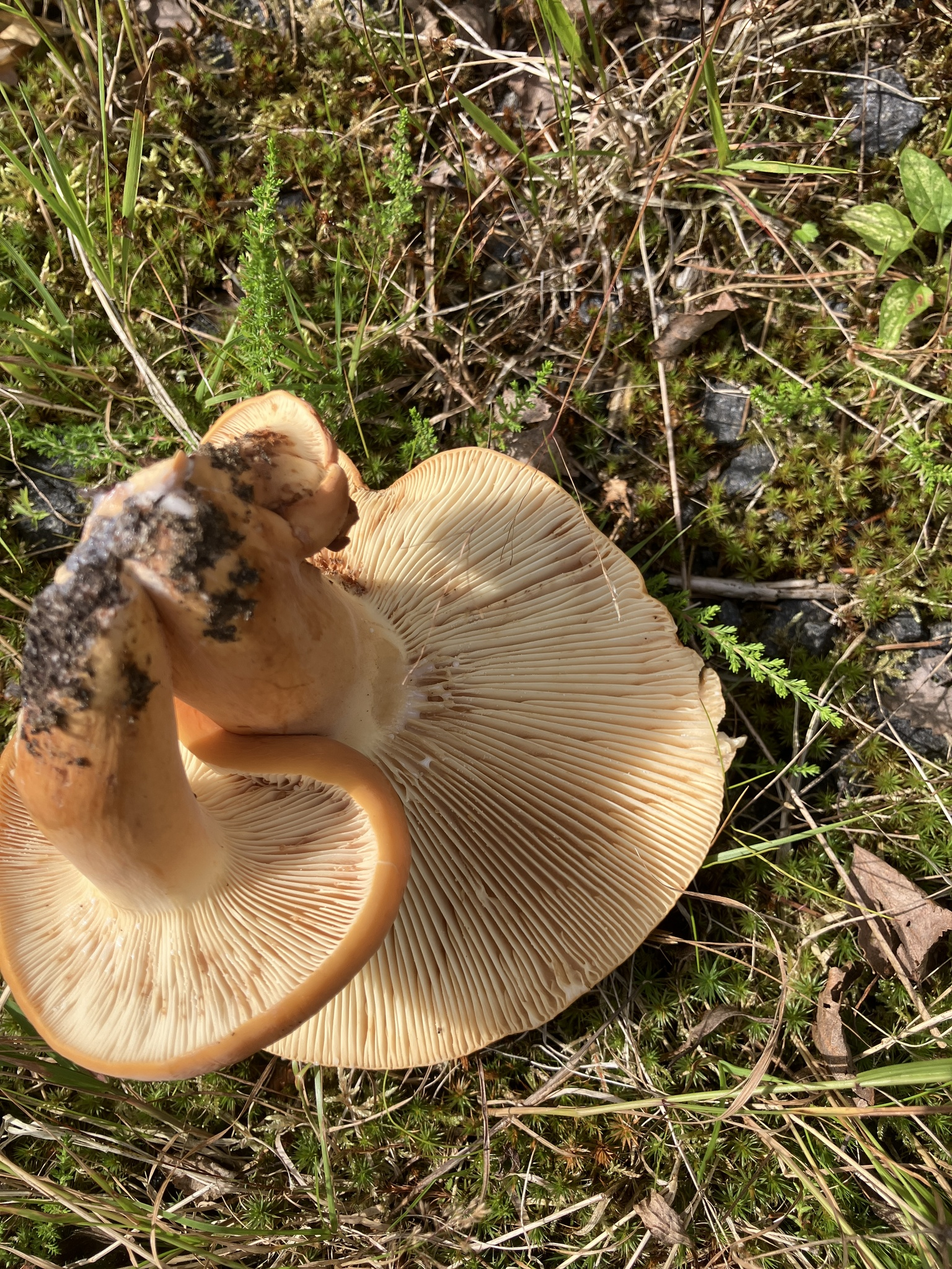Stem: (131, 393, 408, 752), (12, 566, 225, 915)
Underside: (274, 449, 739, 1068), (0, 745, 405, 1078)
